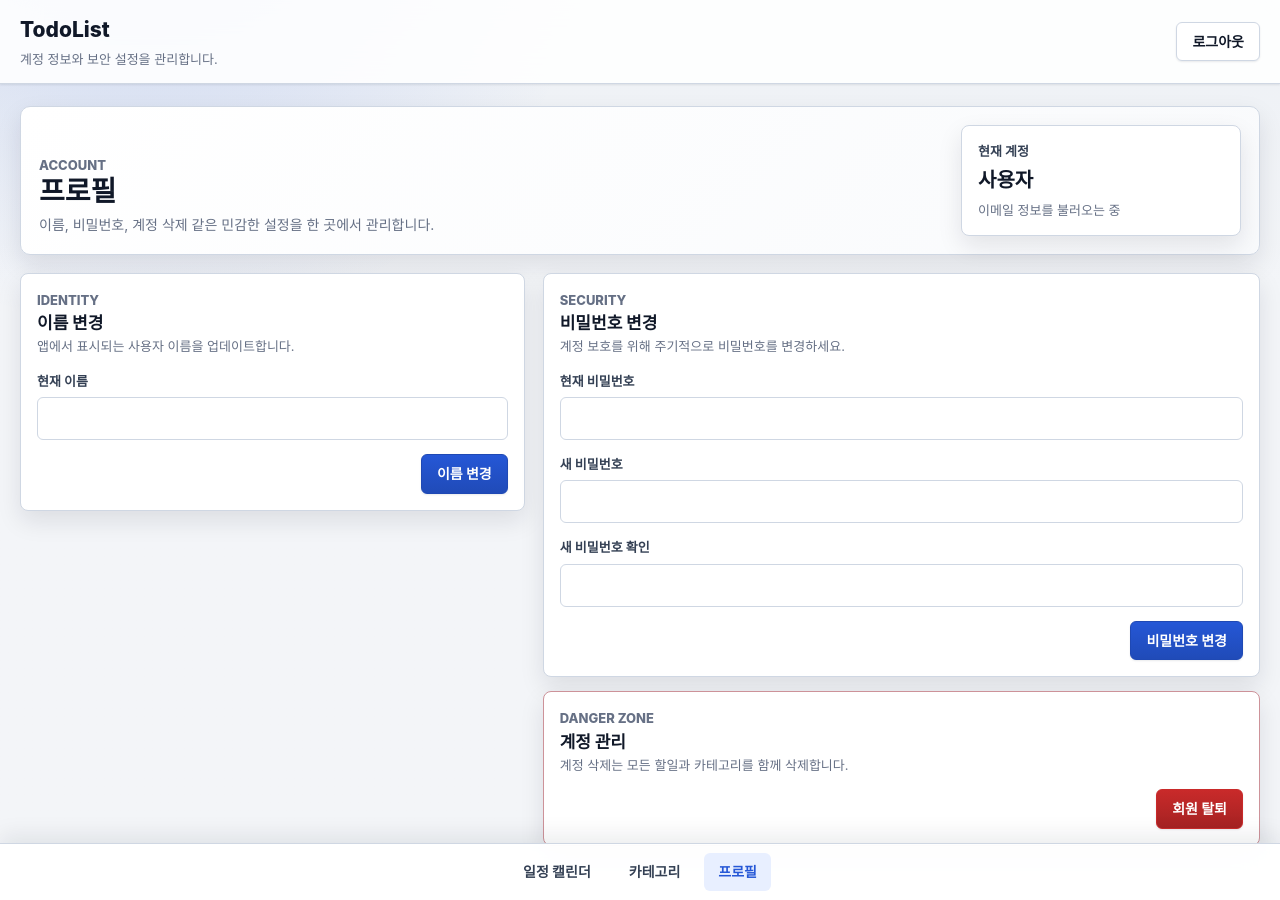
Test: ProfilePage — 회원 탈퇴 › 회원 탈퇴 버튼 클릭 시 확인 모달이 표시된다
Click the button "회원 탈퇴": coordinates (1200, 809) [1156,789,1243,829]
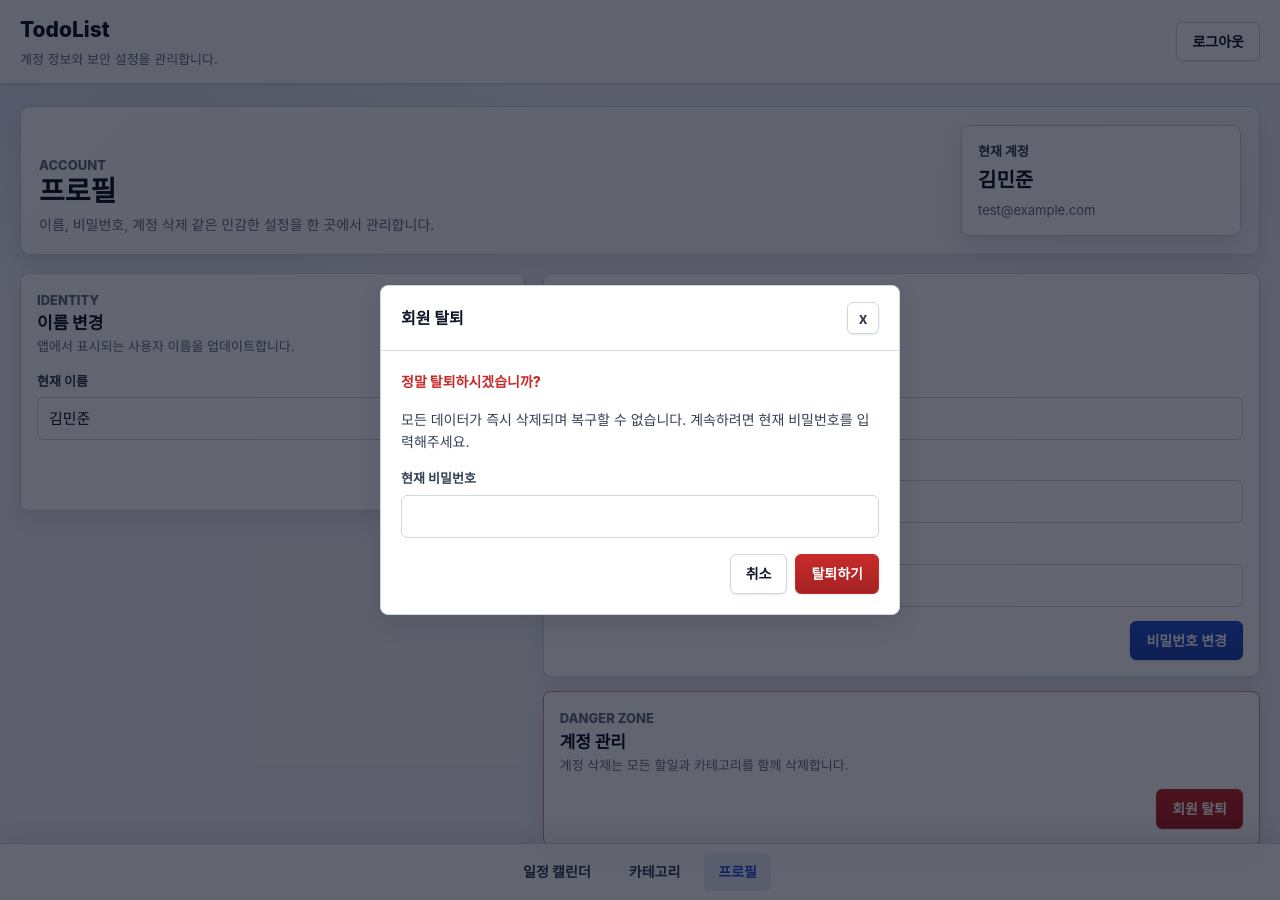
Result: the dialog "회원 탈퇴" is shown
